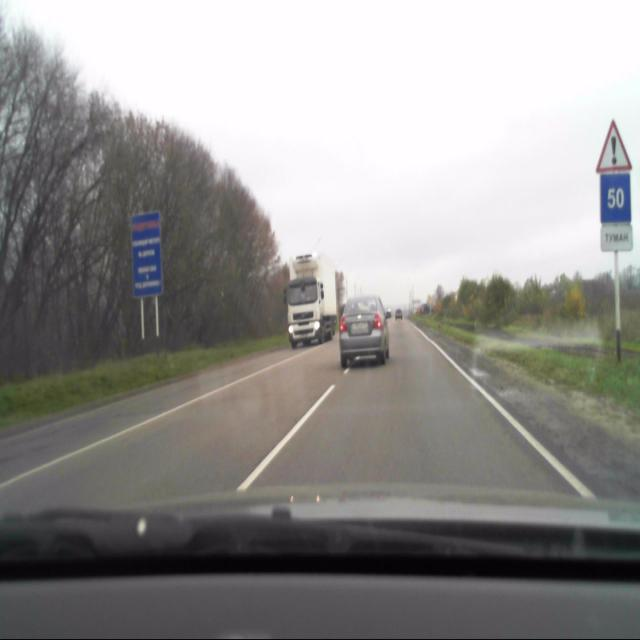object: (614, 251, 622, 363), (600, 226, 634, 250)
road sign: (598, 119, 630, 171), (600, 172, 631, 223)
